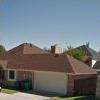Chimney: (48, 38, 66, 58)
